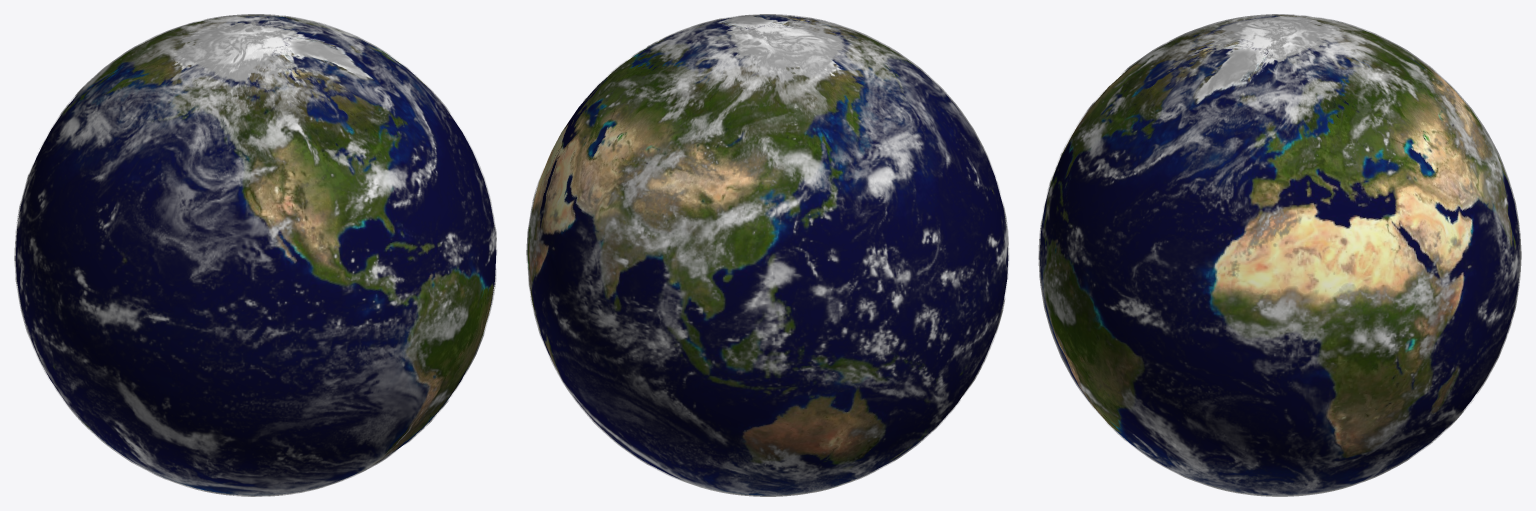
The model's file is earth.gltf.
The picture shows the model from 3 angles, left to right: view 1: azimuth 30°, elevation 25°; view 2: azimuth 150°, elevation 25°; view 3: azimuth 270°, elevation 25°; orthographic projection.
Parts seen in each view (by area): view 1: Earth; view 2: Earth; view 3: Earth.
Part boxes in pixels (left/top/right/bottom): Earth: left=14, top=14, right=496, bottom=496; Earth: left=526, top=14, right=1008, bottom=496; Earth: left=1038, top=14, right=1521, bottom=496.
Size of the model in its own units: 1.28 by 1.28 by 1.28.
Materials: 2 (2 with a texture image).
